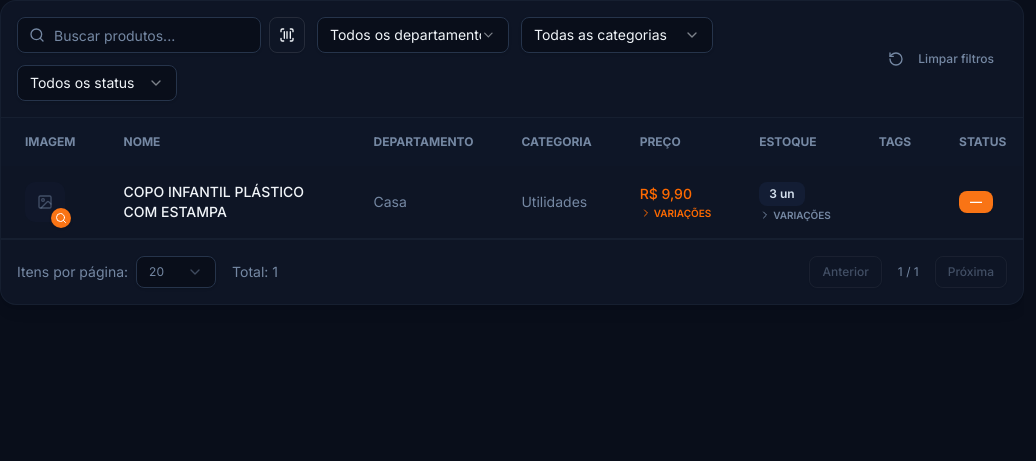
Test: ProductTable — variações aninhadas › clicar de novo fecha
This screenshot has width=1036, height=461.
Click the button "Variações" below "R$ 9,90".
click(676, 213)  # box [640, 206, 711, 220]
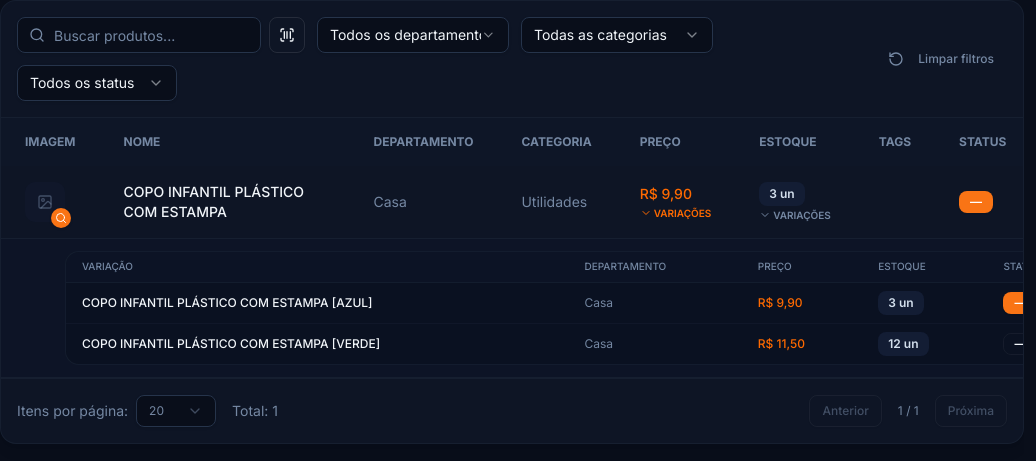
Click the 1st button "Variações".
click(676, 213)  # box [640, 206, 711, 220]
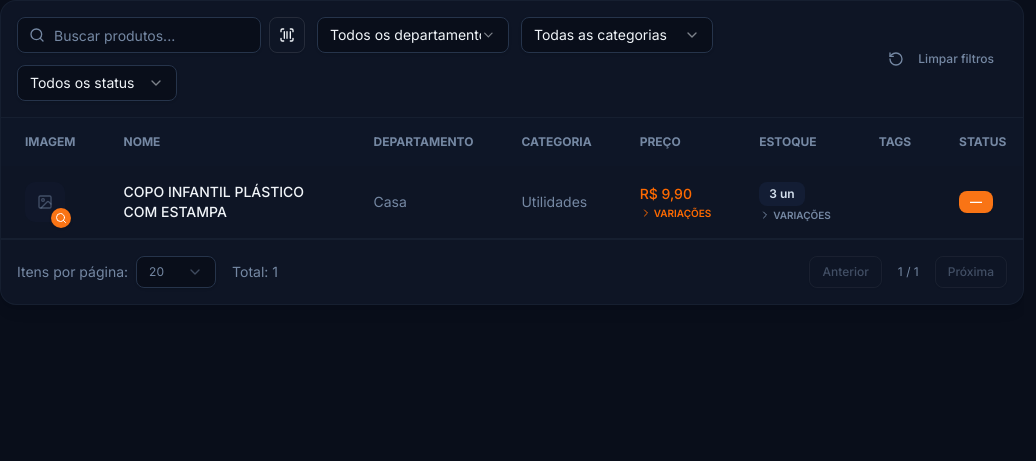
expect the text "COPO INFANTIL PLÁSTICO COM ESTAMPA [AZUL]" is not shown: met
